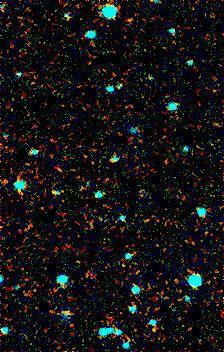star: (139, 315, 169, 345)
